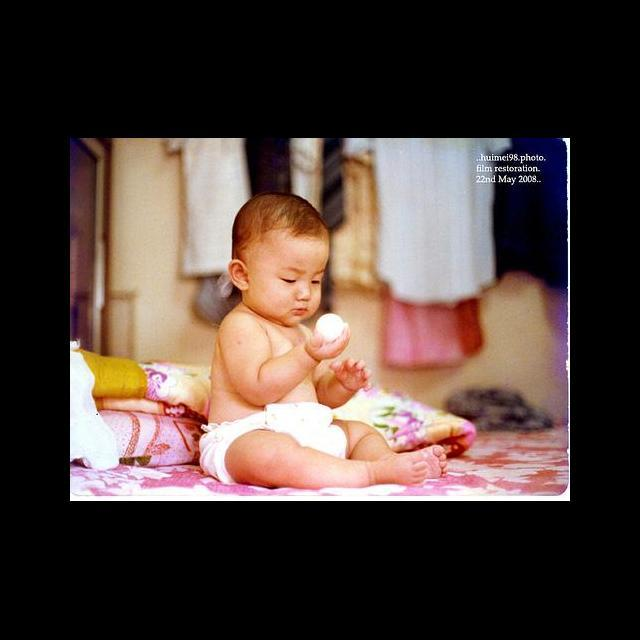ping-pong-ball: (314, 313, 346, 344)
